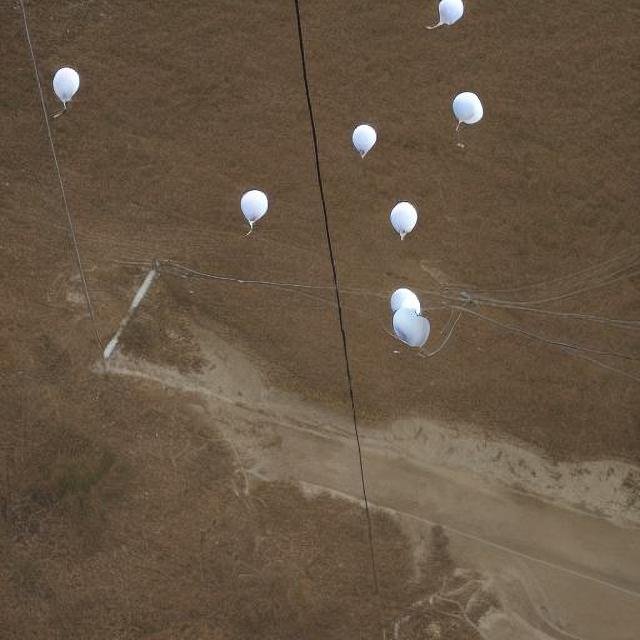balloon: (46, 55, 91, 119), (389, 288, 434, 348), (239, 188, 268, 234), (419, 2, 472, 26), (388, 198, 419, 238), (451, 89, 484, 126), (349, 120, 379, 158)
